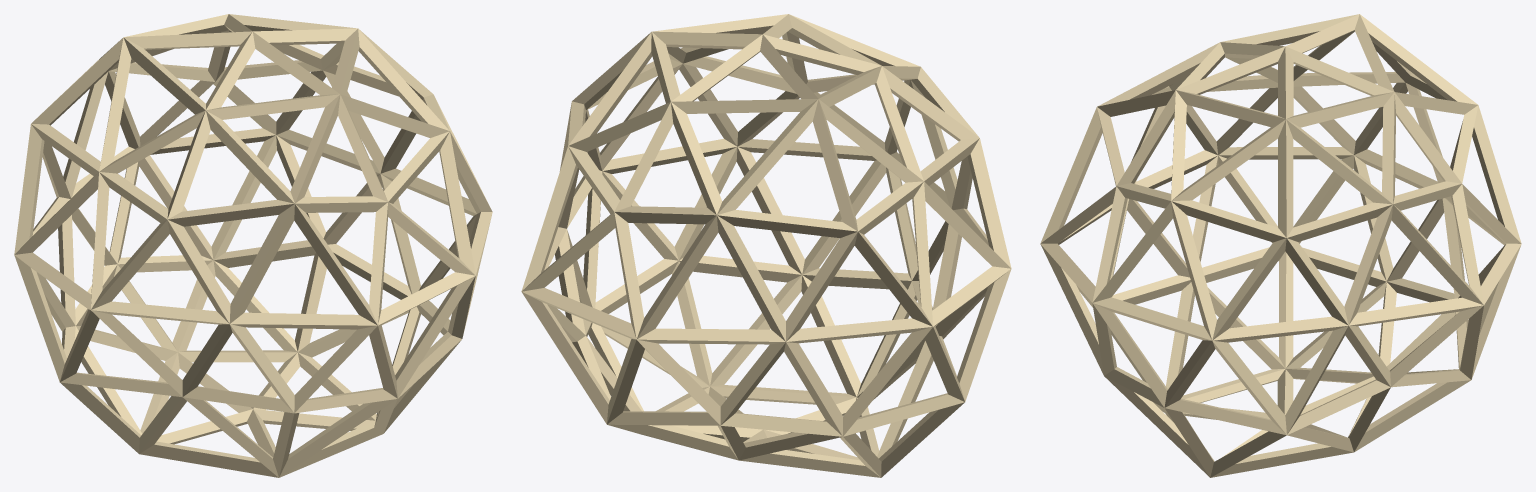
Rendered from tumbleweed.glb.
The picture shows the model from 3 angles, left to right: view 1: azimuth 30°, elevation 25°; view 2: azimuth 150°, elevation 25°; view 3: azimuth 270°, elevation 25°; orthographic projection. The views are drawn at different scales.
Visible parts, largest first — view 1: tumbleweed; view 2: tumbleweed; view 3: tumbleweed.
Part boxes in pixels (<box>): tumbleweed: <box>14,14,492,477</box>; tumbleweed: <box>521,14,1011,477</box>; tumbleweed: <box>1040,14,1521,477</box>.
Bounding box in the file's own units: 1.71 × 1.61 × 1.81.
